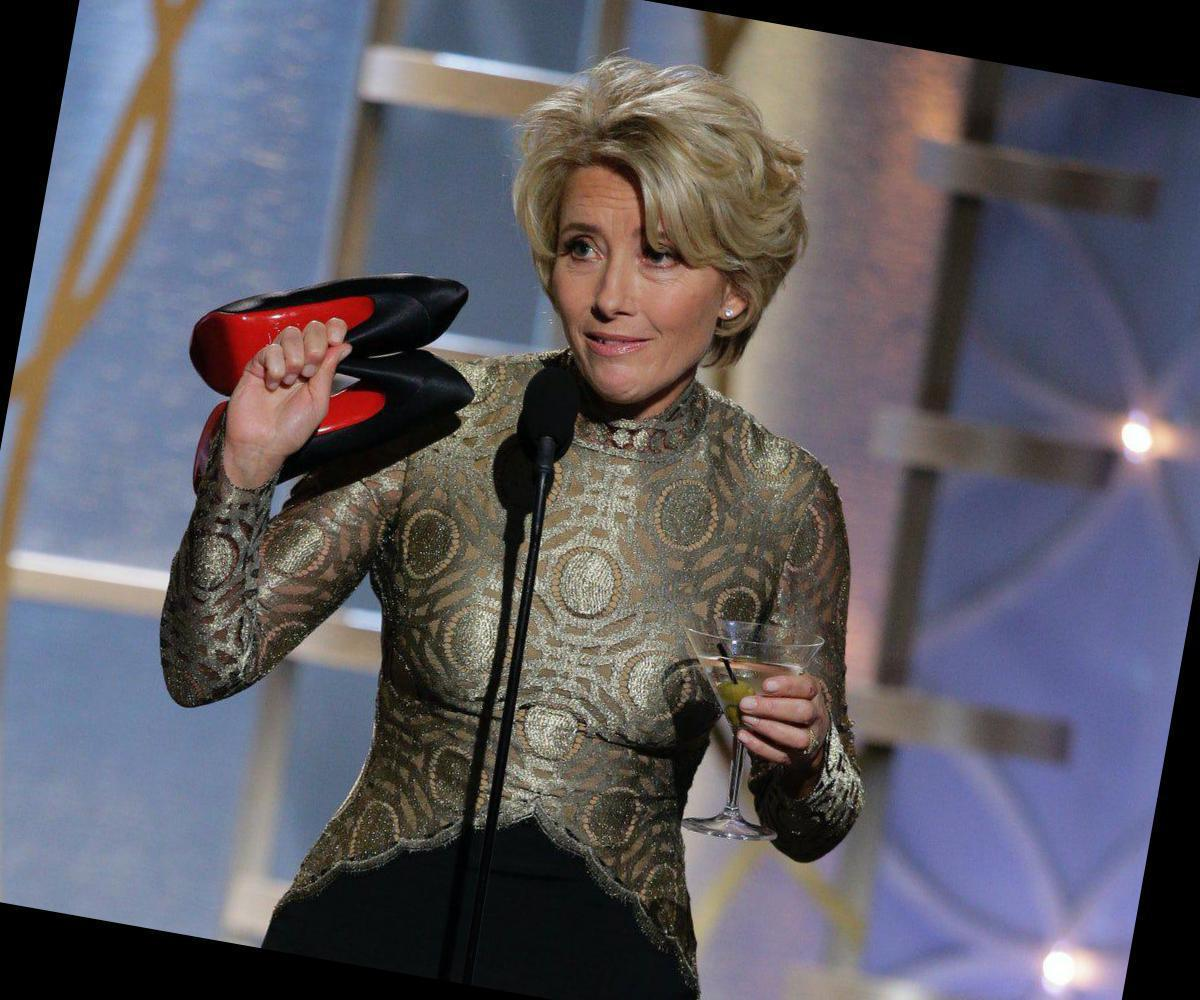Drunk: (555, 162, 718, 403)
